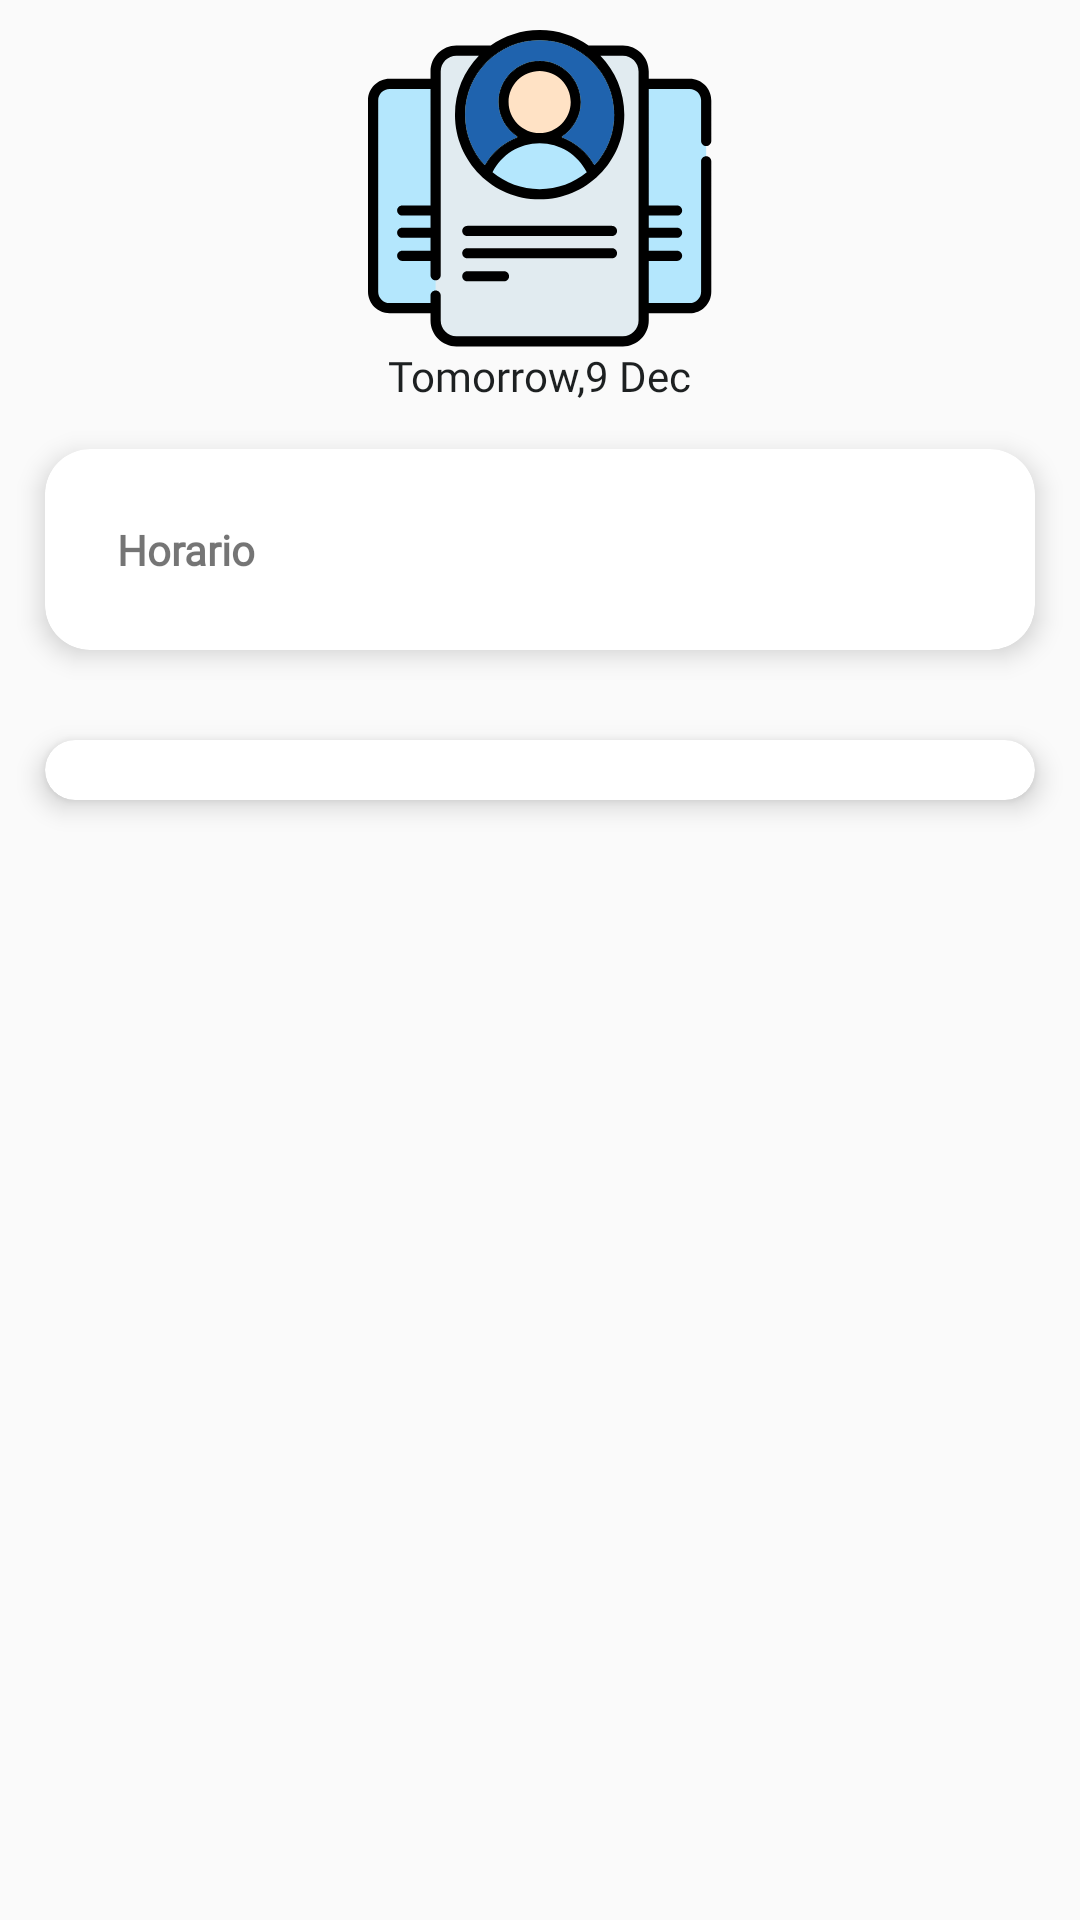

Icon bounding boxes for this 1080 x 1920 phone screenshot, format [x1,y1,x2,y2]:
verification: [368,30,712,347]
